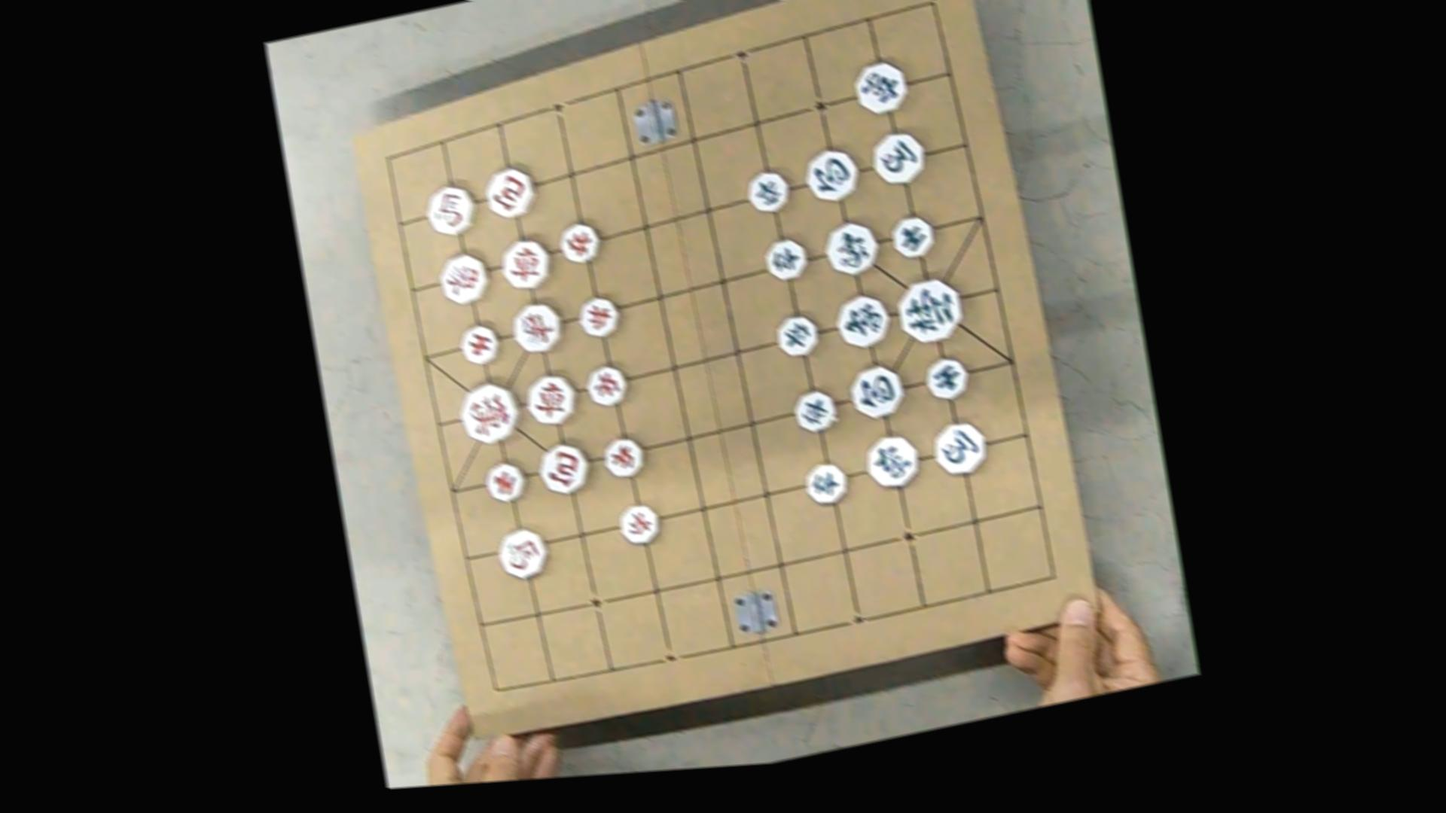cha_green: (863, 431, 923, 492), (851, 57, 910, 117)
cha_red: (523, 371, 580, 427), (499, 236, 554, 292)
jol_green: (792, 387, 839, 434), (763, 236, 810, 283), (745, 169, 792, 215), (774, 312, 821, 358), (804, 461, 850, 507)
jol_red: (557, 220, 603, 266), (602, 434, 647, 480), (577, 294, 622, 340), (584, 363, 630, 408), (618, 503, 662, 547)
ma_green: (871, 129, 929, 187), (932, 420, 989, 477)
ma_red: (423, 181, 479, 238), (496, 525, 551, 581)
po_green: (848, 361, 907, 421), (803, 145, 861, 203)
po_red: (536, 440, 593, 498), (484, 165, 538, 221)
sa_green: (923, 355, 971, 402), (889, 213, 936, 260)
sa_red: (483, 458, 529, 504), (458, 321, 502, 366)
sang_green: (822, 218, 881, 278), (834, 291, 892, 351)
sang_red: (510, 299, 566, 355), (438, 250, 491, 307)
wang_green: (894, 275, 966, 346)
wang_red: (456, 378, 524, 447)
